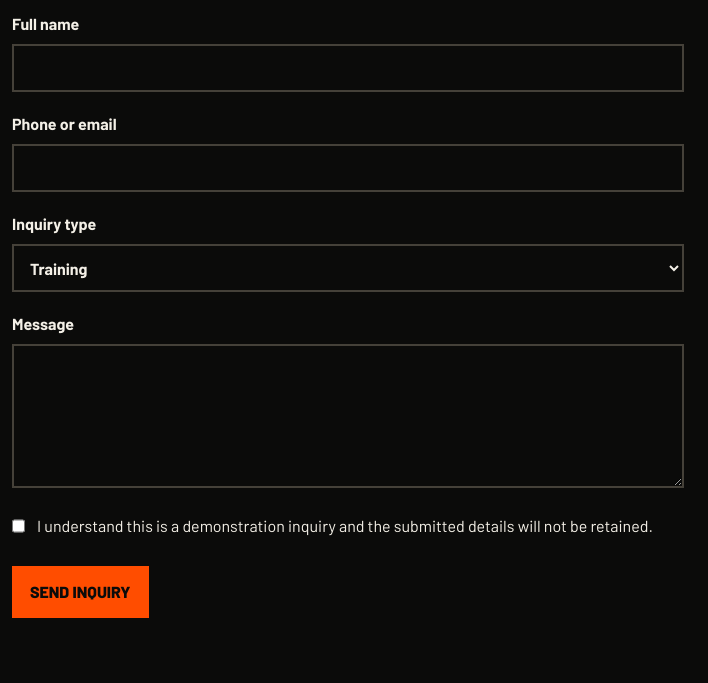
Scenario: interactive UI › submits contact form in mock mode
Type "Maya Haddad" into the field labelled "Full name" at point(348, 68), box [12,44,684,92]
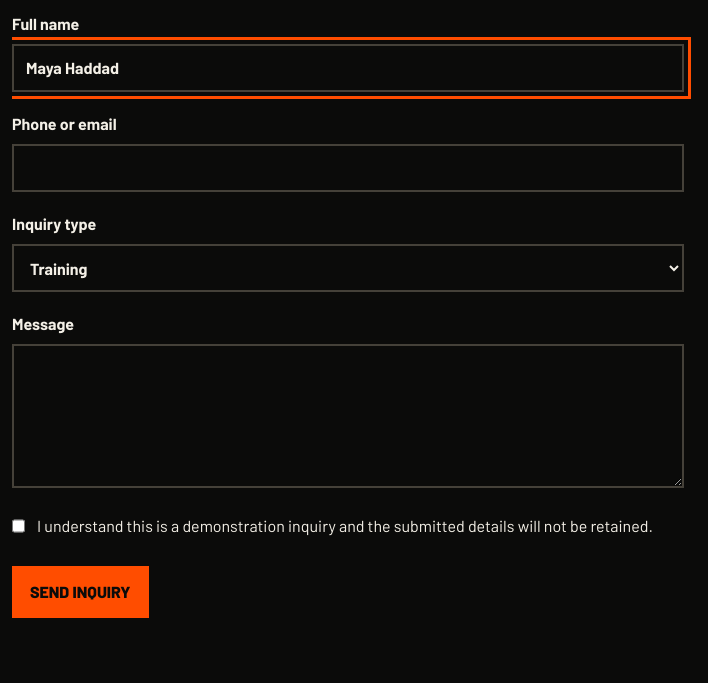
Type "maya@example.com" into the field labelled "Phone or email" at point(348, 168), box [12,144,684,192]
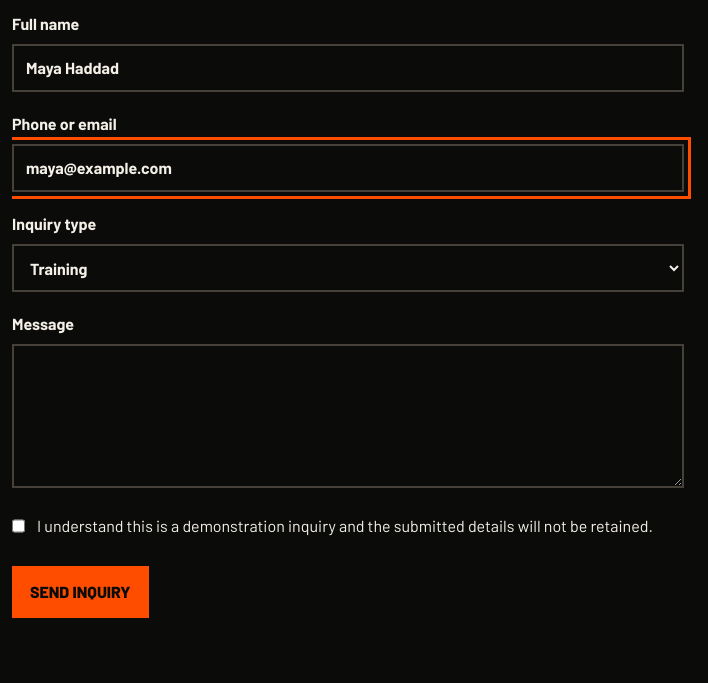
Type "I would like class information." into the text box labelled "Message" at point(348, 416), box [12,344,684,488]
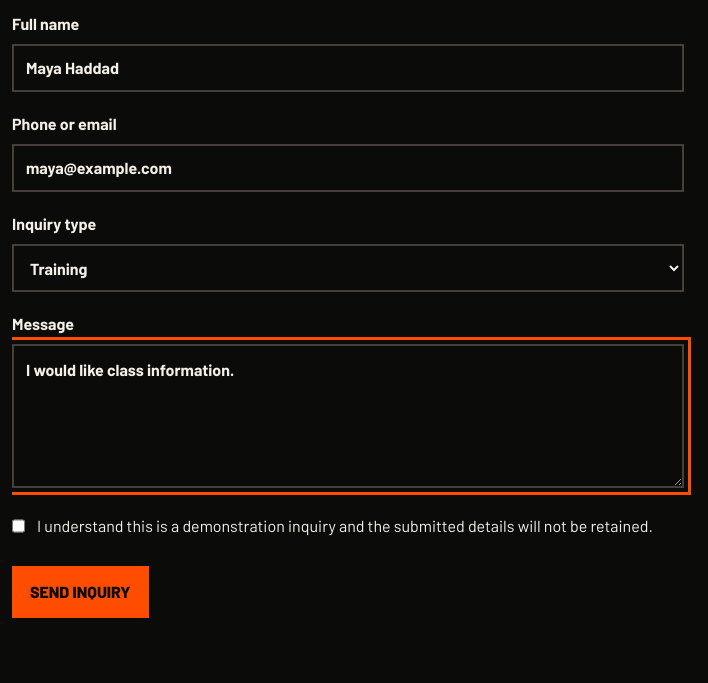
Click the checkbox labelled "demonstration inquiry" at point(18, 526), box [12,514,25,538]
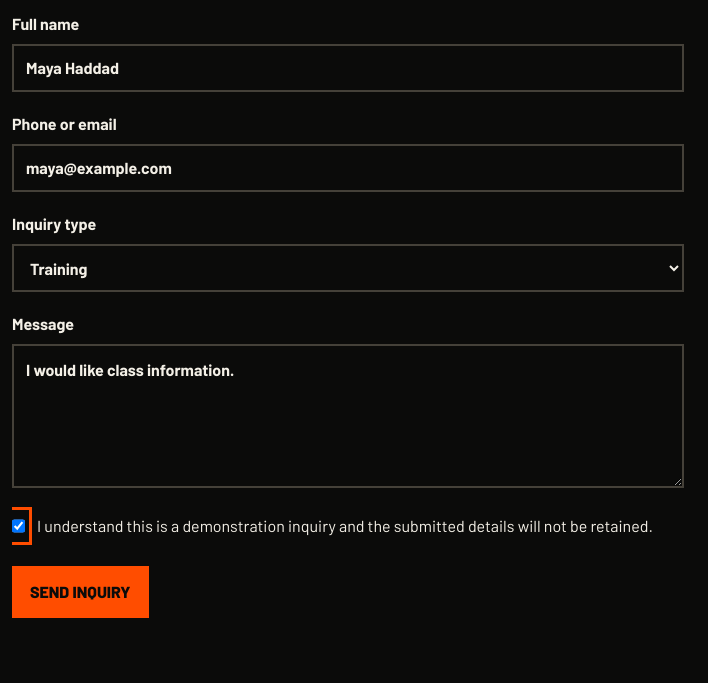
Click the button "Send inquiry" at point(80, 592), box [12,566,148,618]
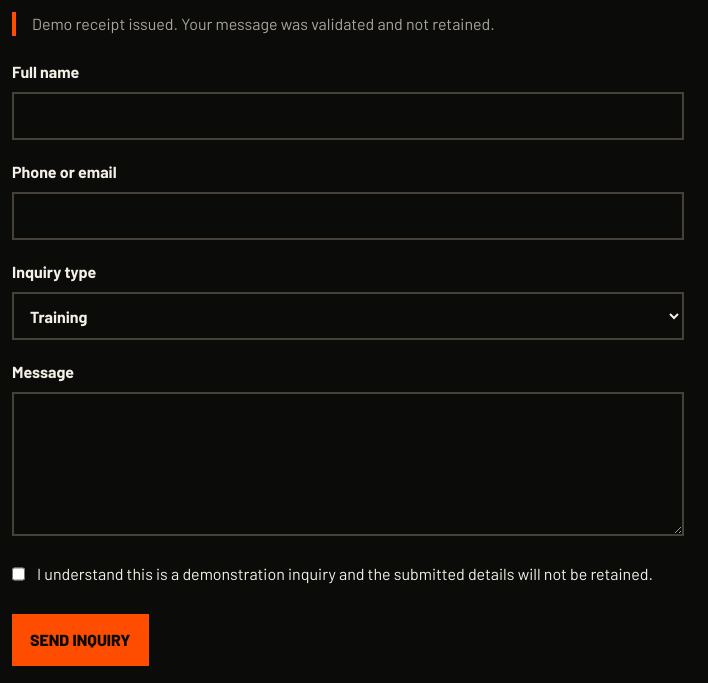
Expected: the text "Demo receipt issued. Your message was validated and not retained." is shown, [12,12,684,36]
